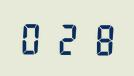eight: (83, 20, 114, 56)
two: (51, 19, 82, 56)
zero: (18, 19, 49, 55)
